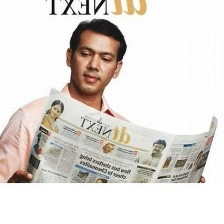news_paper: (18, 83, 221, 184)
